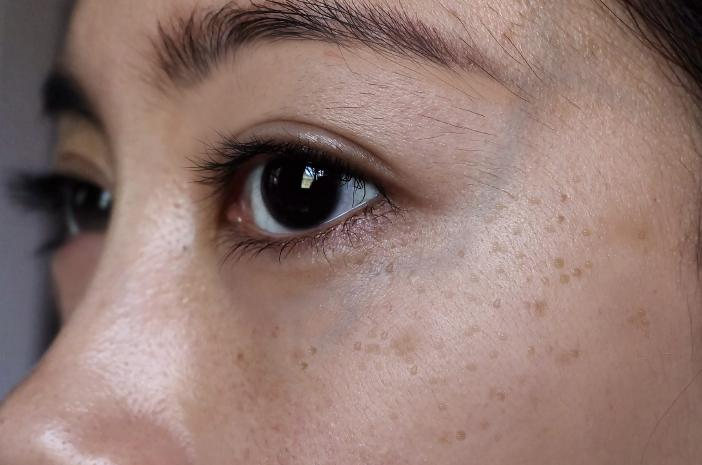Dark-Spots: (218, 168, 654, 458)
